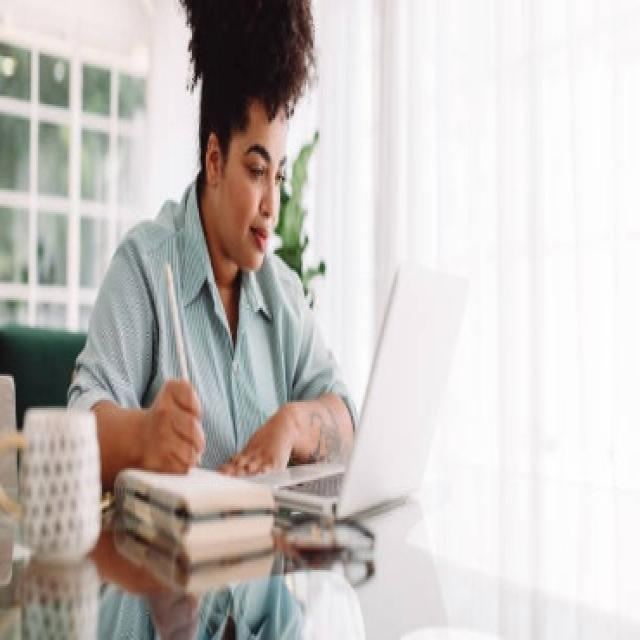adult: (99, 0, 364, 458)
